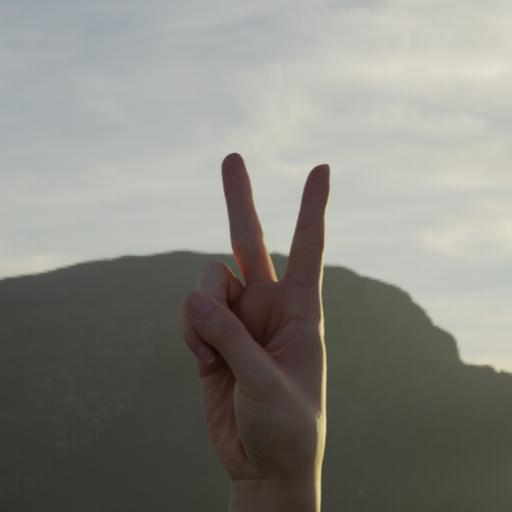V: (172, 141, 370, 490)
